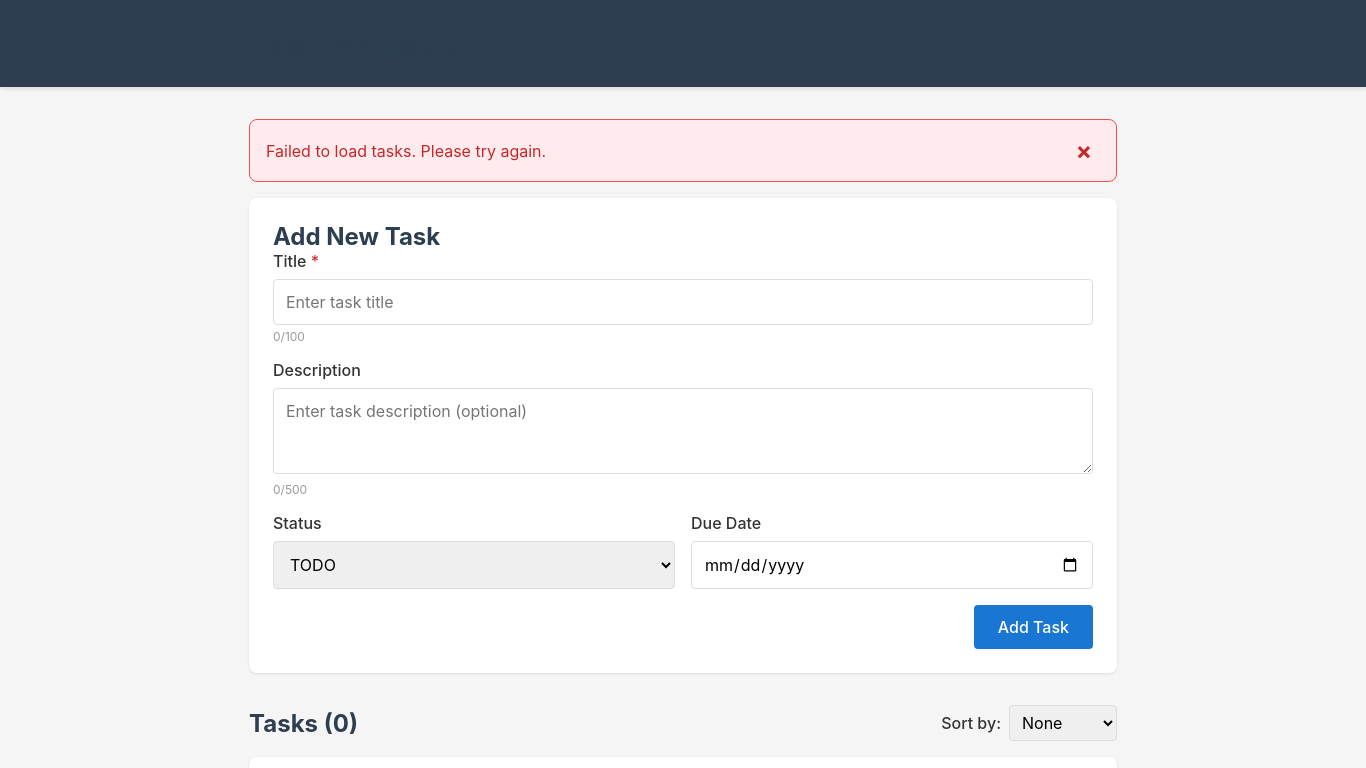
Scenario: App Component › Error Dismissal › should dismiss error banner when dismiss button is clicked
Expected: the text "Failed to load tasks. Please try again." is shown, [266, 140, 546, 160]
Click the button "×": (1084, 150) [1068, 136, 1100, 165]
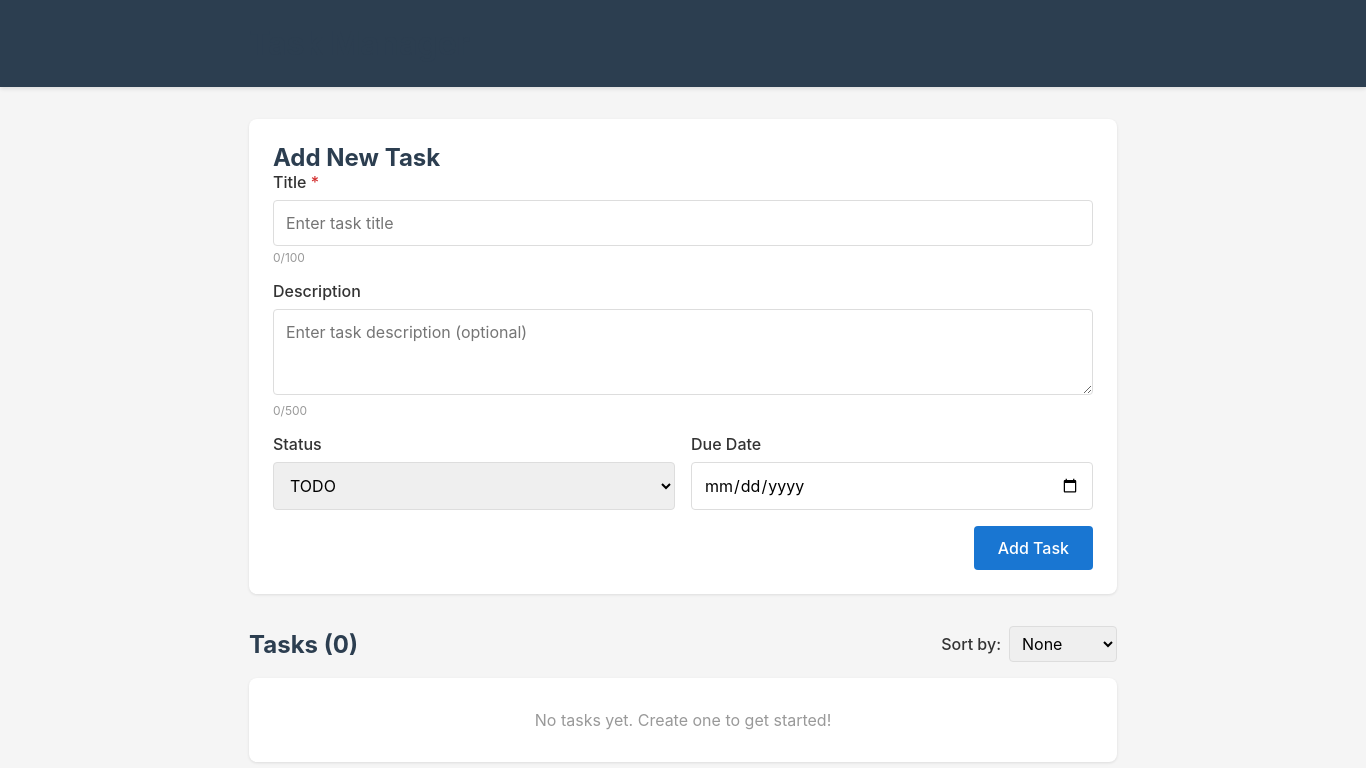
Now the text "Failed to load tasks" is gone
